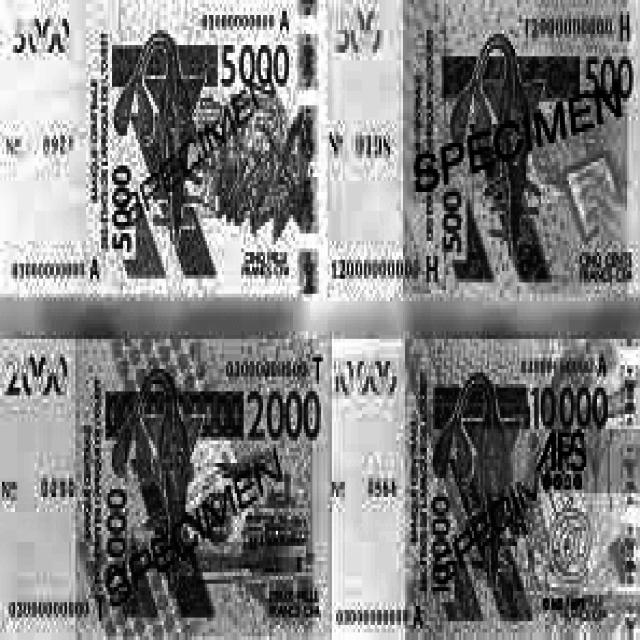junni: (1, 0, 325, 293)
niaar junni: (332, 341, 640, 637)
nient teemeer: (1, 338, 329, 638)
teemeer: (332, 0, 640, 293)
